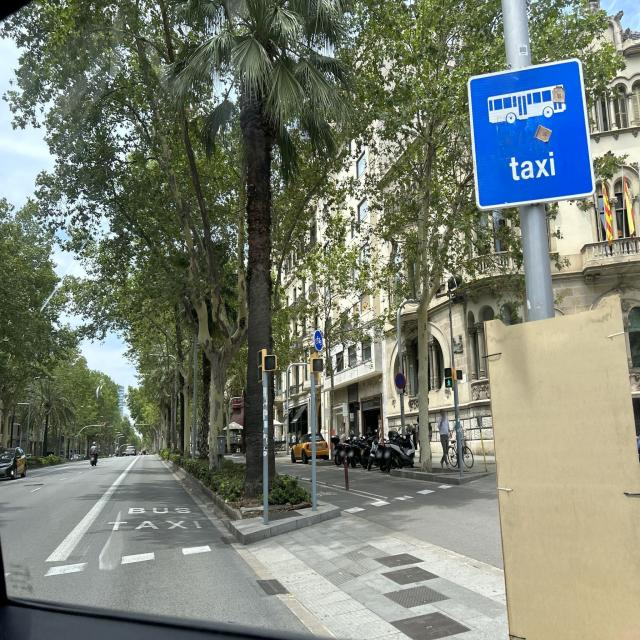bike: (377, 431, 415, 469), (333, 434, 368, 466), (367, 433, 391, 472), (91, 452, 98, 467)
car: (290, 432, 330, 463), (0, 446, 28, 481), (124, 445, 136, 456)
